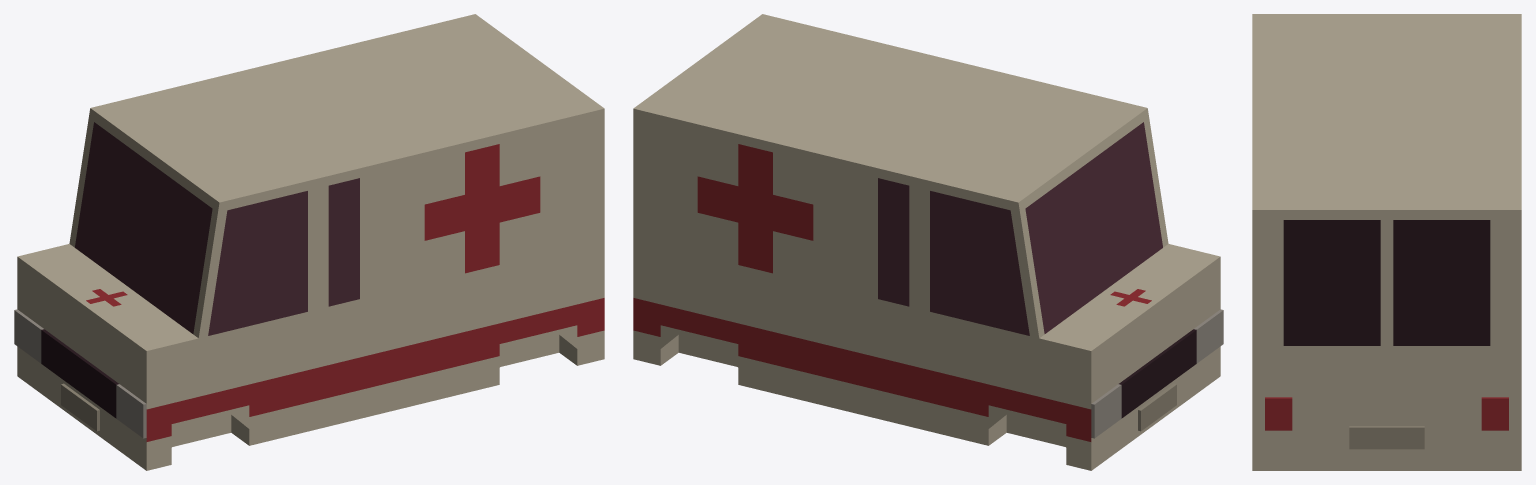
Rendered from Van_Ambulance.fbx.
3 renders of one model, left to right at view 1: azimuth 30°, elevation 25°; view 2: azimuth 150°, elevation 25°; view 3: azimuth 270°, elevation 25°, orthographic. The views are drawn at different scales.
Visible parts, largest first — view 1: Van_Ambulance, Van_AmbulanceLights; view 2: Van_Ambulance, Van_AmbulanceLights; view 3: Van_Ambulance, Van_AmbulanceLights.
Boxes of the visible parts, box(x1,y1,x2,y2) form: Van_Ambulance: box(17, 14, 604, 470); Van_AmbulanceLights: box(14, 309, 146, 438); Van_Ambulance: box(633, 14, 1220, 470); Van_AmbulanceLights: box(1091, 309, 1223, 438); Van_Ambulance: box(1252, 14, 1521, 470); Van_AmbulanceLights: box(1265, 397, 1508, 430).
Size of the model in its own units: 4.46 by 2.3 by 2.15.
